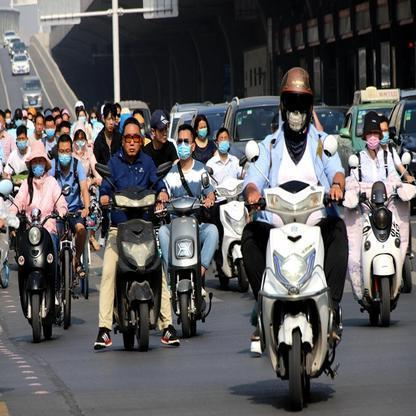target: (249, 65, 340, 409), (94, 117, 179, 352), (345, 110, 411, 326), (6, 140, 70, 343), (161, 122, 220, 336), (205, 126, 249, 294)
